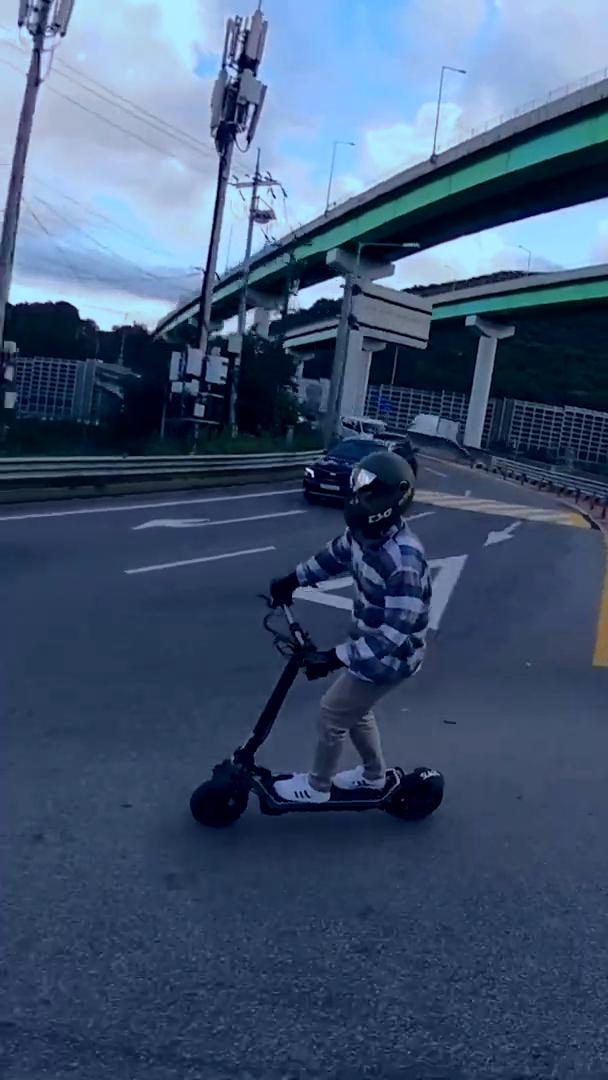helmet: (185, 450, 449, 829)
